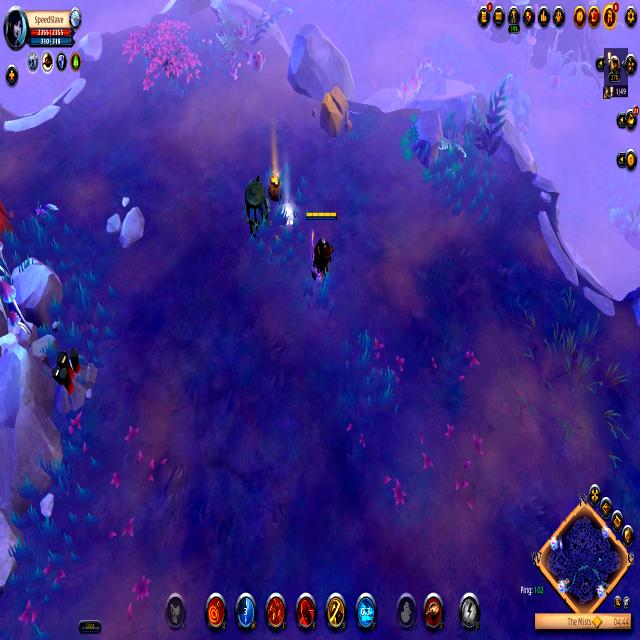player: (49, 339, 92, 412)
red: (301, 206, 340, 295)
stone: (280, 199, 302, 234)
tree: (317, 76, 357, 146)
